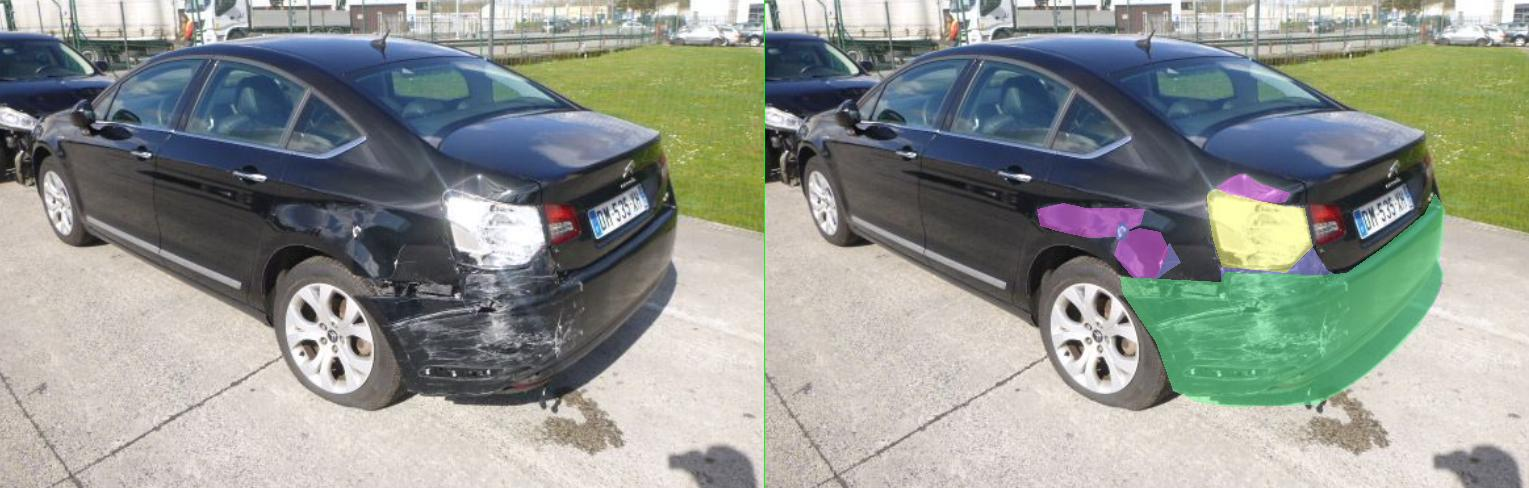Broken part: (710, 194, 1359, 406)
Cracked: (885, 189, 1095, 272)
Dent: (698, 228, 809, 296), (544, 203, 758, 237), (905, 174, 1051, 202)
Scratch: (783, 300, 1113, 395), (913, 247, 1175, 359), (783, 243, 831, 279), (702, 222, 726, 241)
